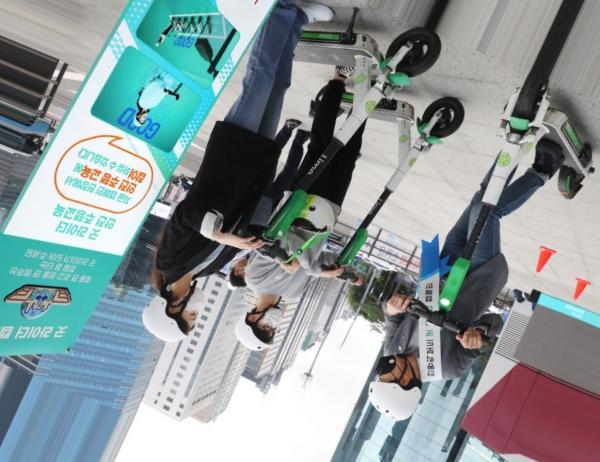scooter: (389, 73, 600, 345), (233, 16, 440, 271)
with helmet: (368, 354, 425, 418), (142, 286, 205, 342), (234, 305, 283, 352)
